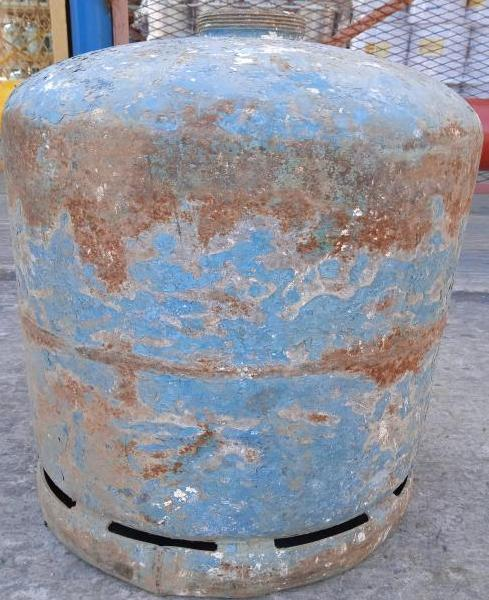cylinder: (1, 0, 489, 600)
